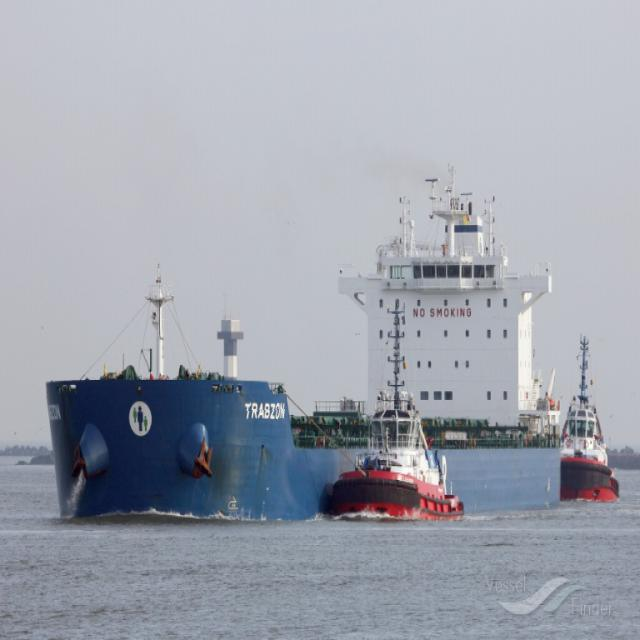OCR: (234, 388, 286, 440)
